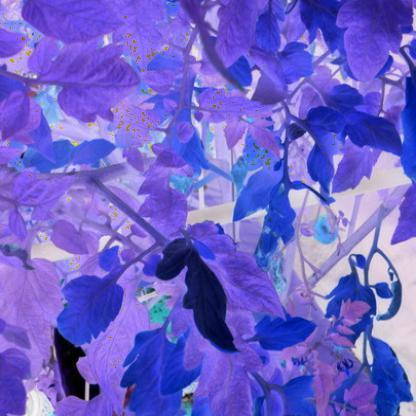Tomato leaf: (33, 38, 145, 130), (230, 158, 303, 271), (52, 270, 130, 353), (330, 9, 402, 94), (250, 314, 318, 358)
